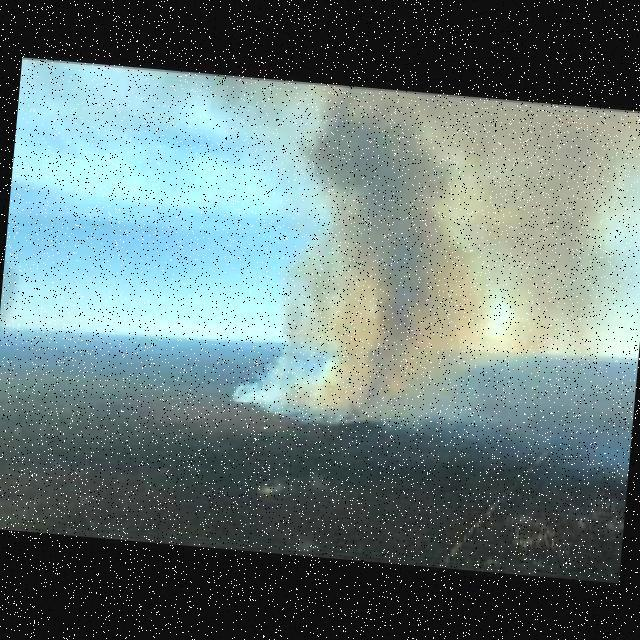Smoke: (224, 79, 640, 460)
